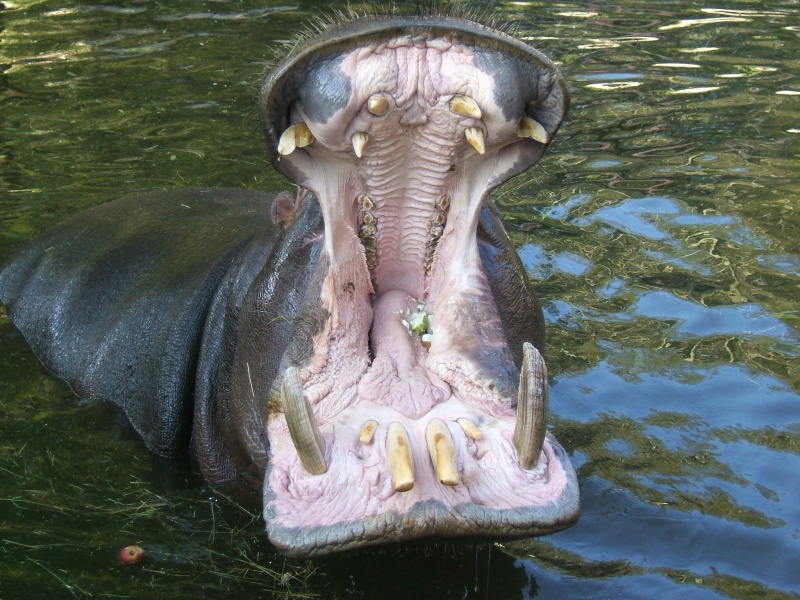hipopotamo: (83, 15, 597, 537)
